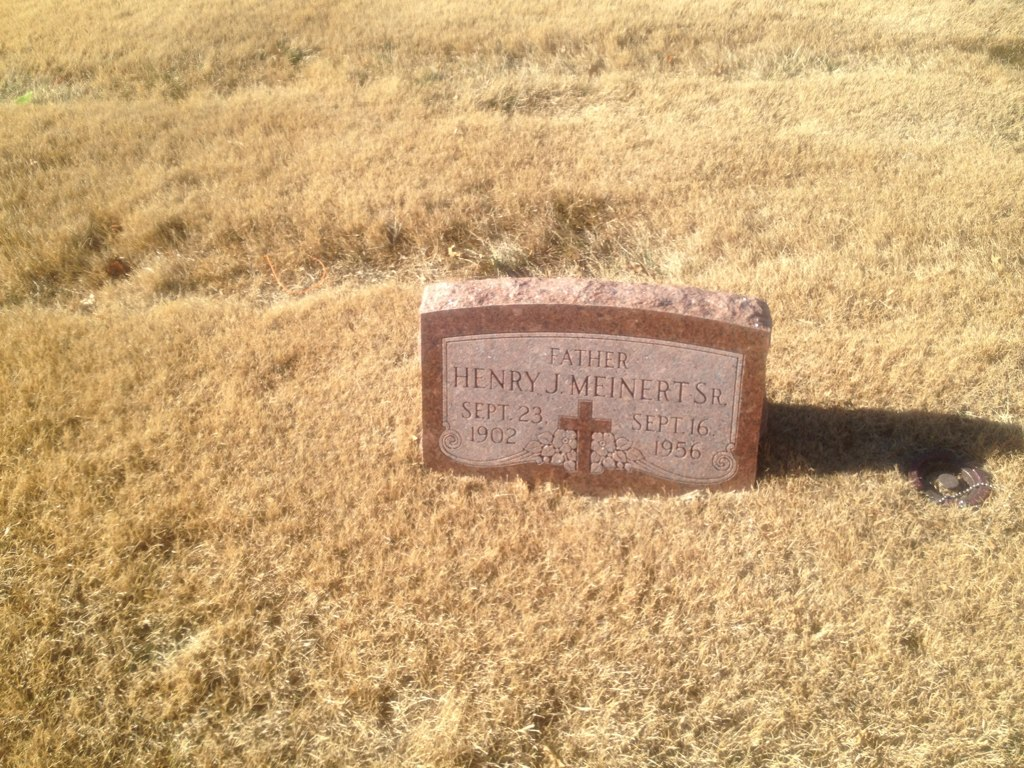upright: (398, 257, 800, 522)
